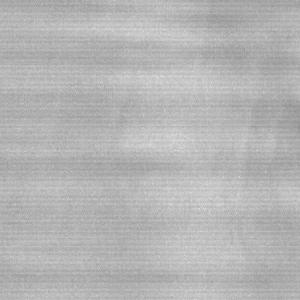Wrinkle: (1, 11, 300, 300)
